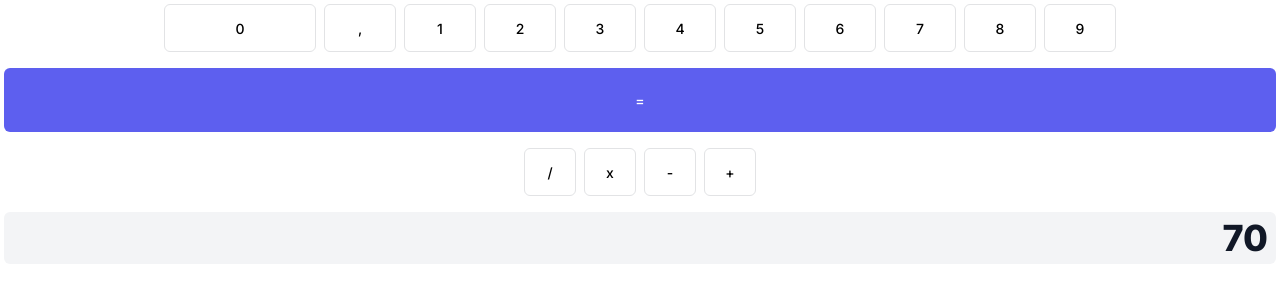
Test: Test Calculations › Minus operation
Click the button "=" at (640,100), box 4,68 -> 1276,132
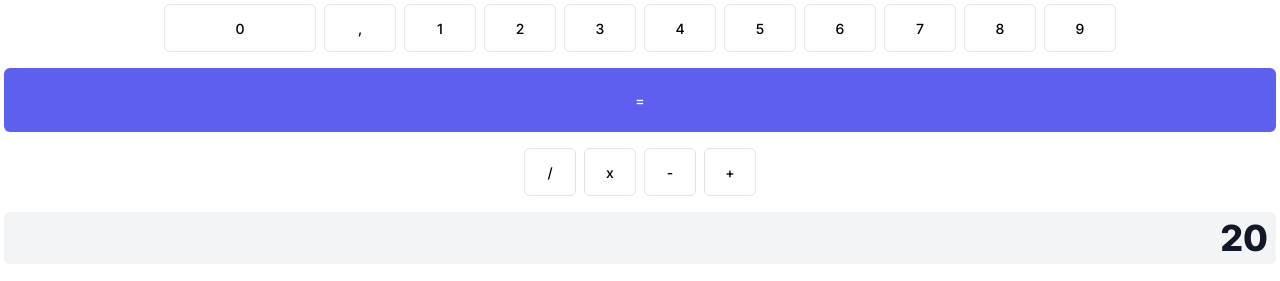
Result: the text "20" is shown at 4,212 -> 1276,264
